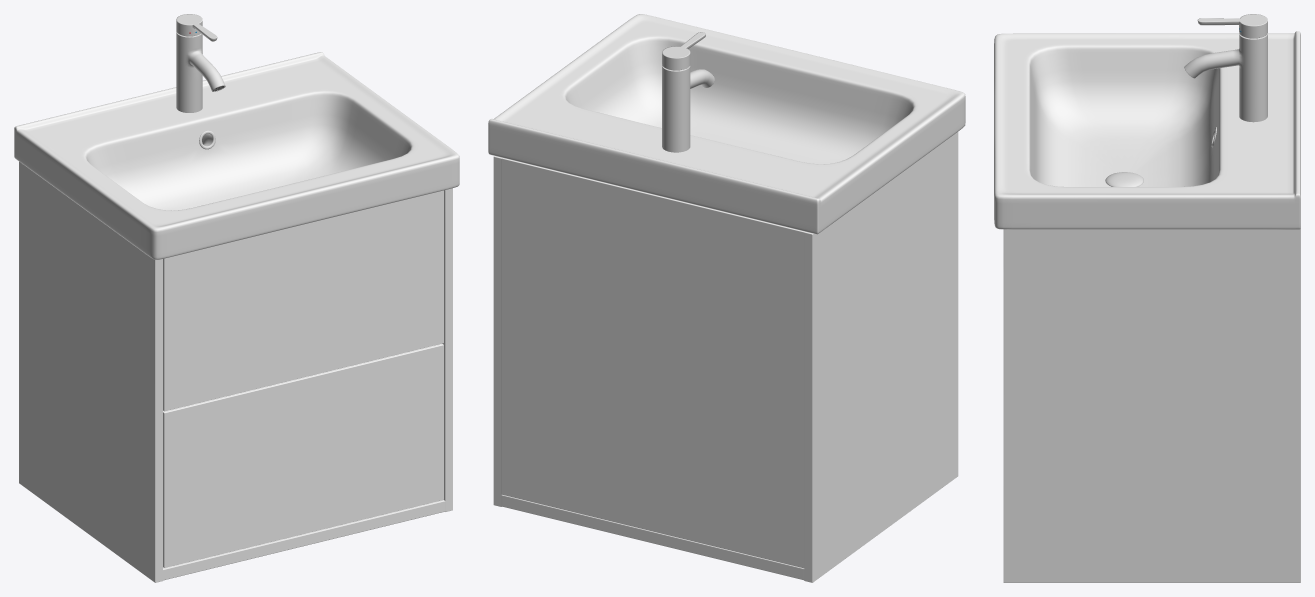
File: Havback49514017.glb
3 renders of one model, left to right at view 1: azimuth 30°, elevation 25°; view 2: azimuth 150°, elevation 25°; view 3: azimuth 270°, elevation 25°, orthographic. The views are drawn at different scales.
Visible parts, largest first — view 1: Rectangle009, Rectangle006, 对象033; view 2: Rectangle009, Rectangle006, 对象033; view 3: Rectangle009, Rectangle006, 对象033.
Part boxes in pixels (x1,y1,x2,y2): Rectangle009: [19, 161, 452, 582]; Rectangle006: [14, 52, 459, 259]; 对象033: [176, 14, 225, 149]; Rectangle009: [493, 132, 958, 582]; Rectangle006: [488, 14, 965, 234]; 对象033: [662, 32, 714, 152]; Rectangle009: [1003, 227, 1300, 582]; Rectangle006: [994, 31, 1300, 229]; 对象033: [1105, 14, 1267, 186].
Size of the model in its own units: 0.6201 by 0.8531 by 0.4901.
Materials: 4 (4 with a texture image).
